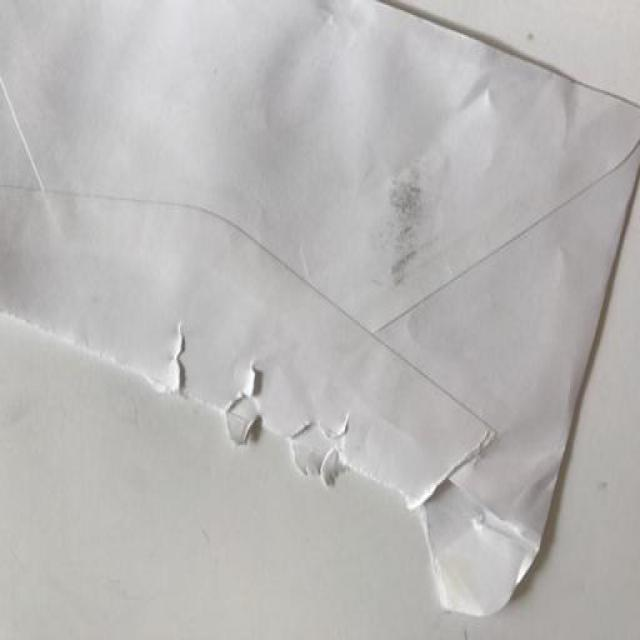paper: (2, 2, 640, 561)
